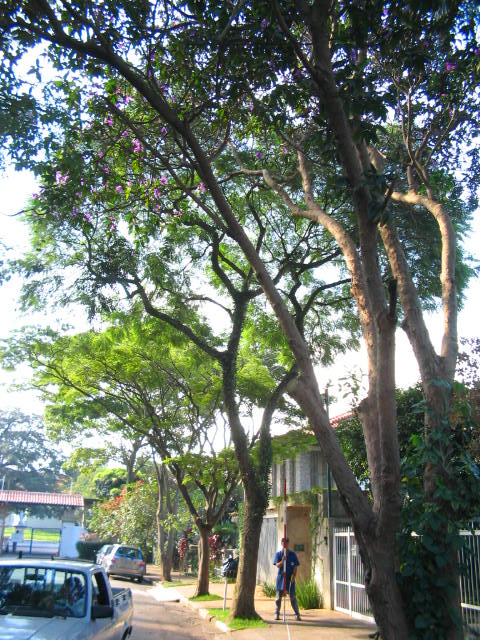crown: (33, 45, 475, 301)
stem: (226, 495, 272, 618)
stick: (278, 476, 294, 621)
tree: (31, 43, 476, 619)
